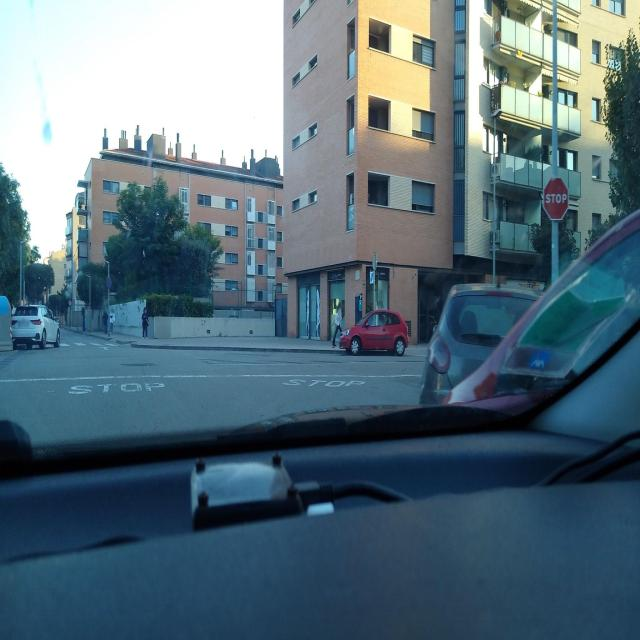forb_stopping: (106, 278, 112, 289)
